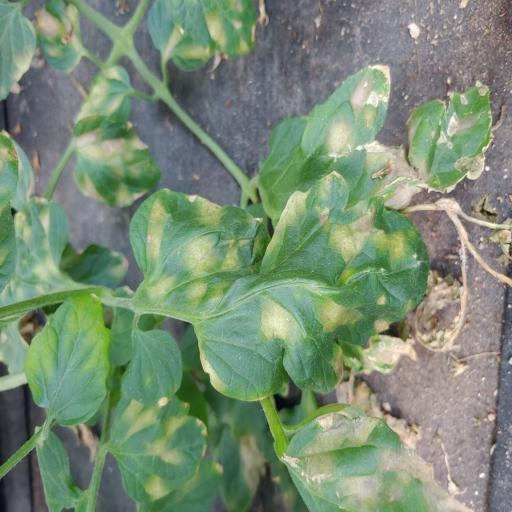Leaf Mold: (131, 170, 429, 402), (281, 402, 476, 512), (261, 64, 391, 219), (24, 294, 112, 428), (111, 390, 209, 505), (71, 114, 161, 208), (148, 0, 256, 74), (0, 197, 71, 307), (0, 0, 36, 103), (35, 0, 82, 74), (75, 66, 131, 122)
